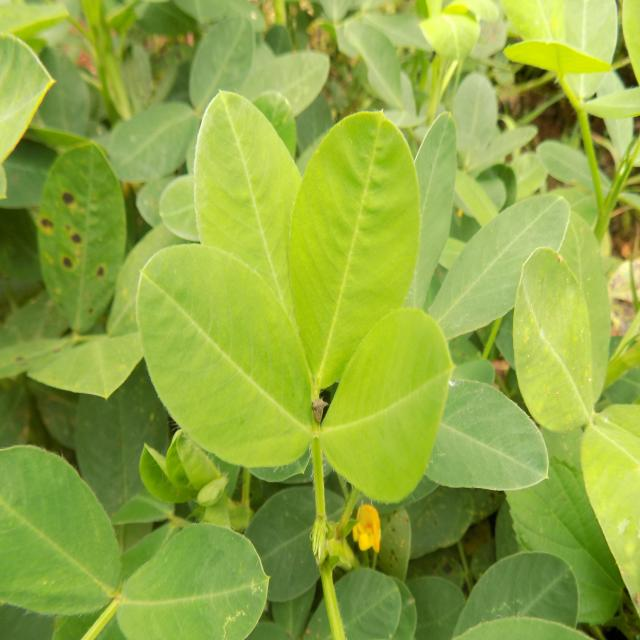Ground nut_healthy: (138, 234, 315, 467), (286, 110, 419, 383), (195, 87, 310, 366), (317, 300, 458, 515), (425, 189, 565, 347)
